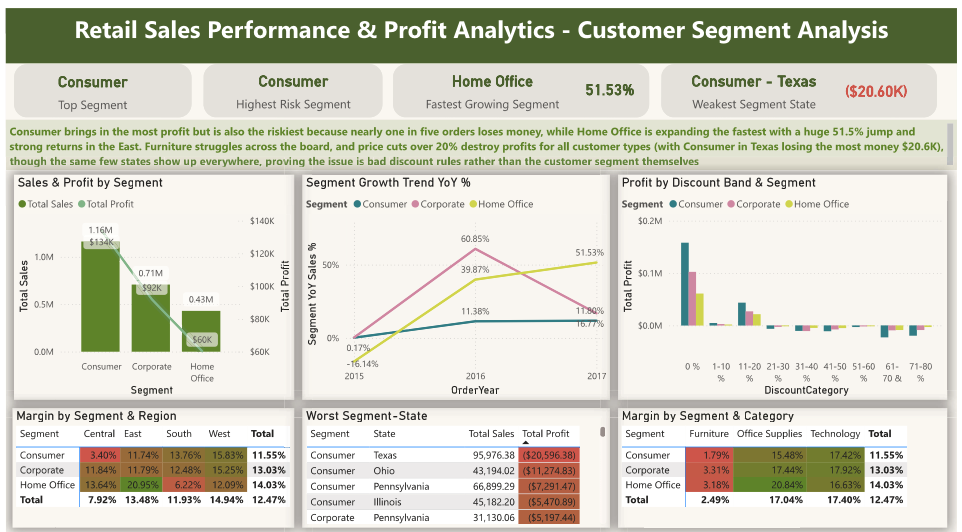

This screenshot's page, from the dashboard's own definition file:
{"tool":"powerbi","page":{"name":"Customer Segment","canvas":[1280,720],"ordinal":3},"visuals":[{"type":"shape","box":[882.2,75.2,371,71.4],"z":0},{"type":"shape","box":[521.4,75.2,344.2,71.4],"z":1000},{"type":"textbox","box":[0,0,1279.7,73.7],"z":2000},{"type":"shape","box":[11.5,75.2,238.4,71.4],"z":3000},{"type":"card","fields":{"Values":["Fact-Superstore.Top Segment"]},"box":[34.4,75.2,165.7,68.8],"z":4000},{"type":"card","fields":{"Values":["Fact-Superstore.Fastest Growing Segment"]},"box":[554.6,72.7,200.2,71.4],"z":5000},{"type":"shape","box":[266.5,75.2,241,71.4],"z":6000},{"type":"card","fields":{"Values":["Fact-Superstore.Loss Making Segment"]},"box":[293.2,72.7,187.4,71.4],"z":7000},{"type":"textbox","box":[0,150.4,1280,67.6],"z":8000},{"type":"card","fields":{"Values":["Fact-Superstore.Weakest Segment State"]},"box":[903.9,72.7,206.5,71.4],"z":9000},{"type":"card","fields":{"Values":["Fact-Superstore.Riskiest Segment State"]},"box":[1076,75.2,191.2,72.7],"z":10000},{"type":"lineClusteredColumnComboChart","title":"Sales & Profit by Segment","fields":{"Y":["Fact-Superstore.Total Sales"],"Y2":["Fact-Superstore.Total Profit"],"Category":["Dim-Segment.Segment"]},"box":[11.5,224.4,376.1,302.2],"z":11000},{"type":"pivotTable","title":"Margin by Segment & Region","fields":{"Values":["Fact-Superstore.Profit Margin %"],"Columns":["Dim-Region.Region"],"Rows":["Dim-Segment.Segment"]},"box":[8.9,538,378.6,160.6],"z":12000},{"type":"lineChart","title":"Segment Growth Trend YoY %","fields":{"Category":["Fact-Superstore.OrderYear"],"Series":["Dim-Segment.Segment"],"Y":["Fact-Superstore.Segment YoY Sales %"]},"box":[399,224.4,414.3,302.2],"z":13000},{"type":"card","fields":{"Values":["Fact-Superstore.Fastest Growing Segment %"]},"box":[743.3,73.9,139,71.4],"z":14000},{"type":"tableEx","title":"Worst Segment-State","fields":{"Values":["Dim-Segment.Segment","Dim-State.State","Fact-Superstore.Total Sales","Fact-Superstore.Total Profit"]},"box":[399,538,414.3,160.6],"z":15000},{"type":"pivotTable","title":"Margin by Segment & Category","fields":{"Values":["Fact-Superstore.Profit Margin %"],"Rows":["Dim-Segment.Segment"],"Columns":["Dim-Category.Category"]},"box":[823.6,538,443.7,160.6],"z":16000},{"type":"clusteredColumnChart","title":"Profit by Discount Band & Segment","fields":{"Category":["Dim-Discount.DiscountCategory"],"Series":["Dim-Segment.Segment"],"Y":["Fact-Superstore.Total Profit"]},"box":[823.6,224.4,443.7,302.2],"z":17000}]}

Visuals, with their boxes in screenshot pixels (x1, y1, x2, y2), scaled from the page's 1280x720 canvas onto the 962x532 screenshot:
shape: [663,56,942,108]
shape: [392,56,651,108]
textbox: [0,0,961,54]
shape: [9,56,188,108]
card - Fact-Superstore.Top Segment: [26,56,150,106]
card - Fact-Superstore.Fastest Growing Segment: [417,54,567,106]
shape: [200,56,381,108]
card - Fact-Superstore.Loss Making Segment: [220,54,361,106]
textbox: [0,111,961,161]
card - Fact-Superstore.Weakest Segment State: [679,54,835,106]
card - Fact-Superstore.Riskiest Segment State: [809,56,952,109]
"Sales & Profit by Segment" lineClusteredColumnComboChart: [9,166,291,389]
"Margin by Segment & Region" pivotTable: [7,398,291,516]
"Segment Growth Trend YoY %" lineChart: [300,166,611,389]
card - Fact-Superstore.Fastest Growing Segment %: [559,55,663,107]
"Worst Segment-State" tableEx: [300,398,611,516]
"Margin by Segment & Category" pivotTable: [619,398,952,516]
"Profit by Discount Band & Segment" clusteredColumnChart: [619,166,952,389]
